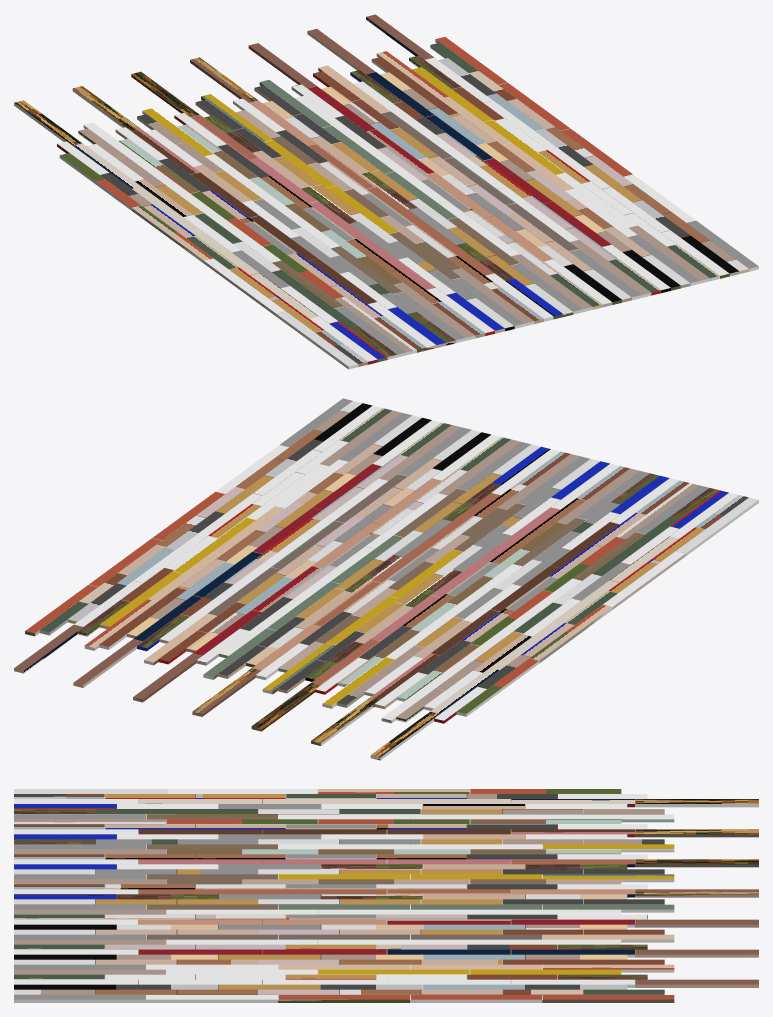
The model's file is woodtryagain25.glb.
The picture shows the model from 3 angles, top to bottom: view 1: azimuth 30°, elevation 25°; view 2: azimuth 150°, elevation 25°; view 3: azimuth 270°, elevation 25°; orthographic projection. The views are drawn at different scales.
Visible parts, largest first — view 1: Cube.005; view 2: Cube.005; view 3: Cube.005.
Part boxes in pixels (x1,y1,x2,y2): Cube.005: (14,14,758,369); Cube.005: (14,398,758,760); Cube.005: (14,789,758,1002).
Size of the model in its own units: 6.57 by 0.0449 by 9.81.
Materials: 1 (1 with a texture image).
